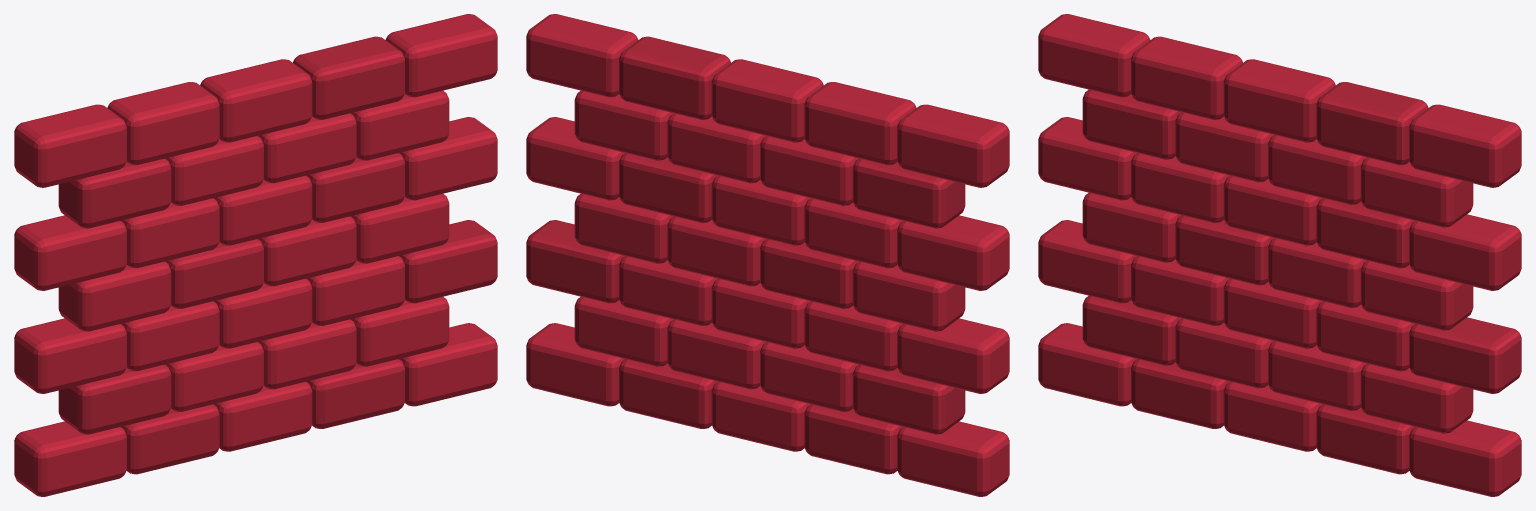
The model's file is Hurdle20.fbx.
3 views of the same model, side by side, from view 1: azimuth 30°, elevation 25°; view 2: azimuth 150°, elevation 25°; view 3: azimuth 330°, elevation 25° (orthographic).
Parts seen in each view (by area): view 1: HUrdle20; view 2: HUrdle20; view 3: HUrdle20.
Part boxes in pixels (x1,y1,x2,y2): HUrdle20: [14, 14, 497, 496]; HUrdle20: [526, 14, 1009, 496]; HUrdle20: [1038, 14, 1521, 496].
Bounding box in the file's own units: 3.16 × 2.35 × 0.3356.
1 material, 1 textured.
